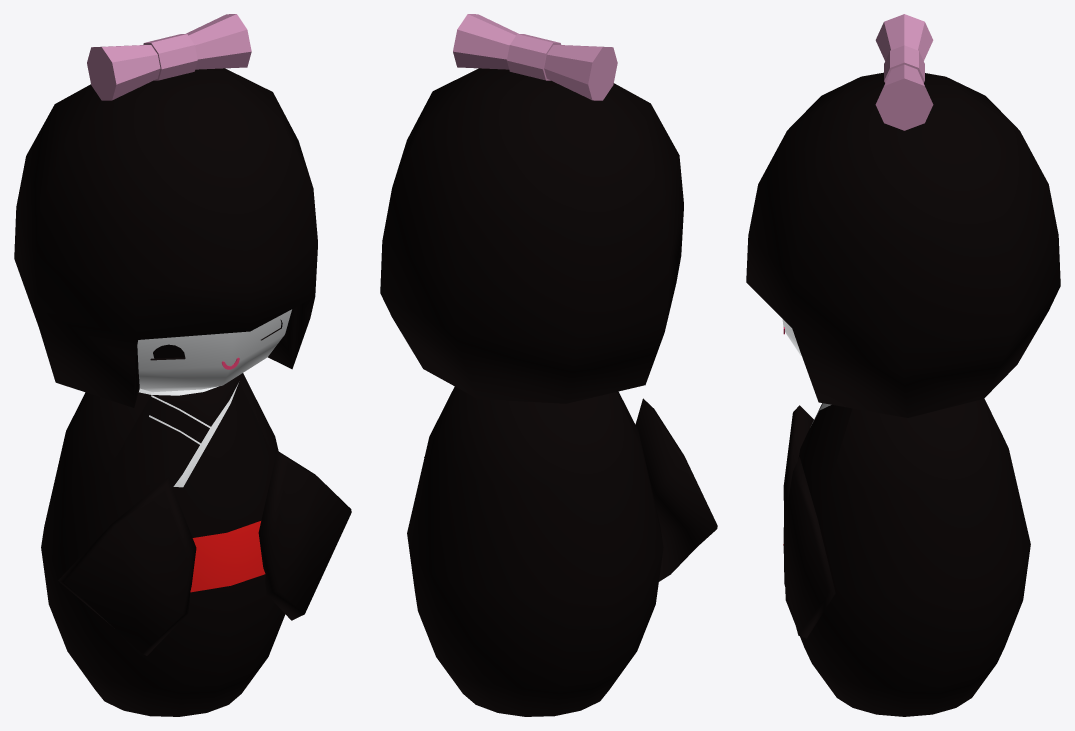
File: muñeca.glb
3 renders of one model, left to right at view 1: azimuth 30°, elevation 25°; view 2: azimuth 150°, elevation 25°; view 3: azimuth 270°, elevation 25°, orthographic. The views are drawn at different scales.
Parts seen in each view (by area): view 1: Object_2; view 2: Object_2; view 3: Object_2.
Boxes of the visible parts, <box> form: Object_2: <box>14,14,351,716</box>; Object_2: <box>380,14,717,716</box>; Object_2: <box>746,14,1060,716</box>.
Bounding box in the file's own units: 2.56 × 5.47 × 2.44.
Materials: 1 (1 with a texture image).
